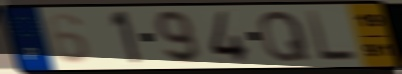1: (109, 9, 145, 67)
4: (208, 9, 252, 65)
6: (45, 11, 93, 66)
9: (151, 9, 204, 65)
L: (304, 9, 361, 63)
Q: (256, 9, 313, 64)
